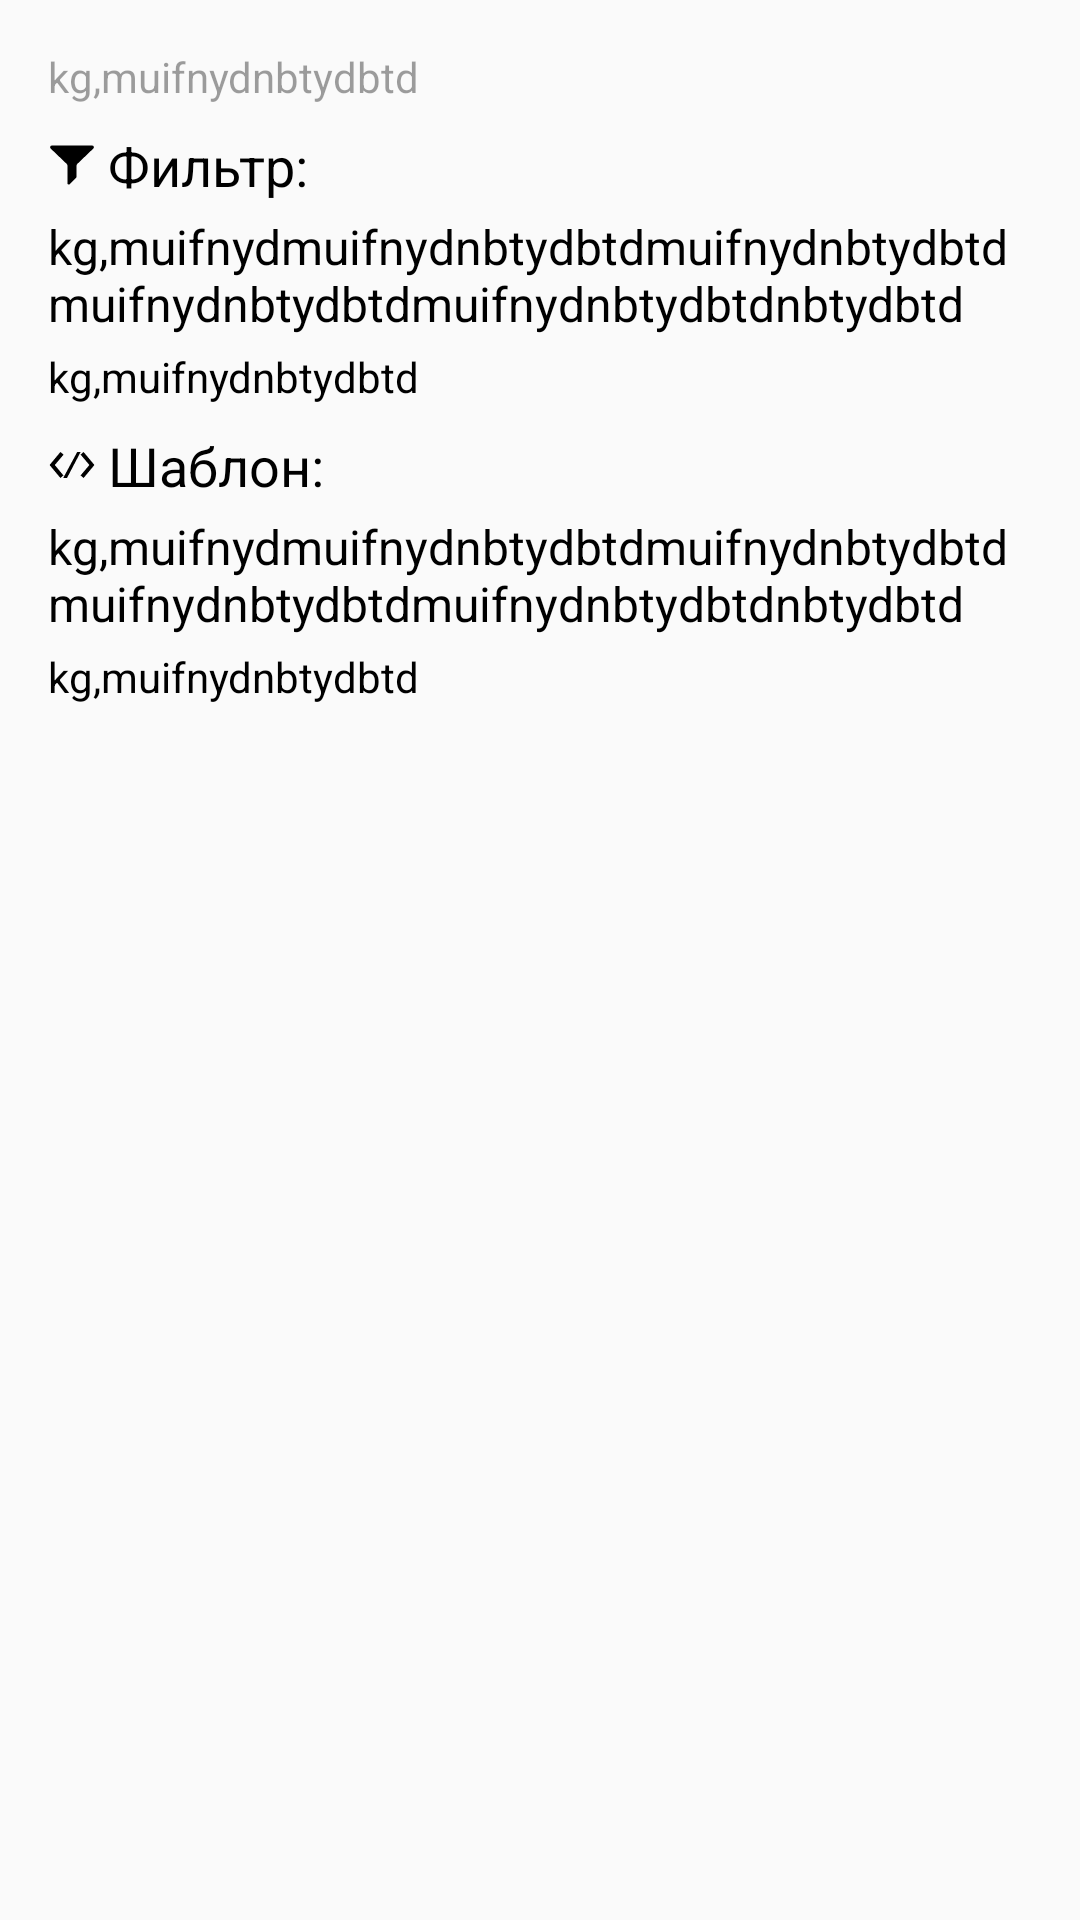

Where icons sit on this 1080px×1920px app screen, as (x1, y1, x2, y2):
filter: (50, 145, 94, 185)
template: (50, 452, 94, 478)
